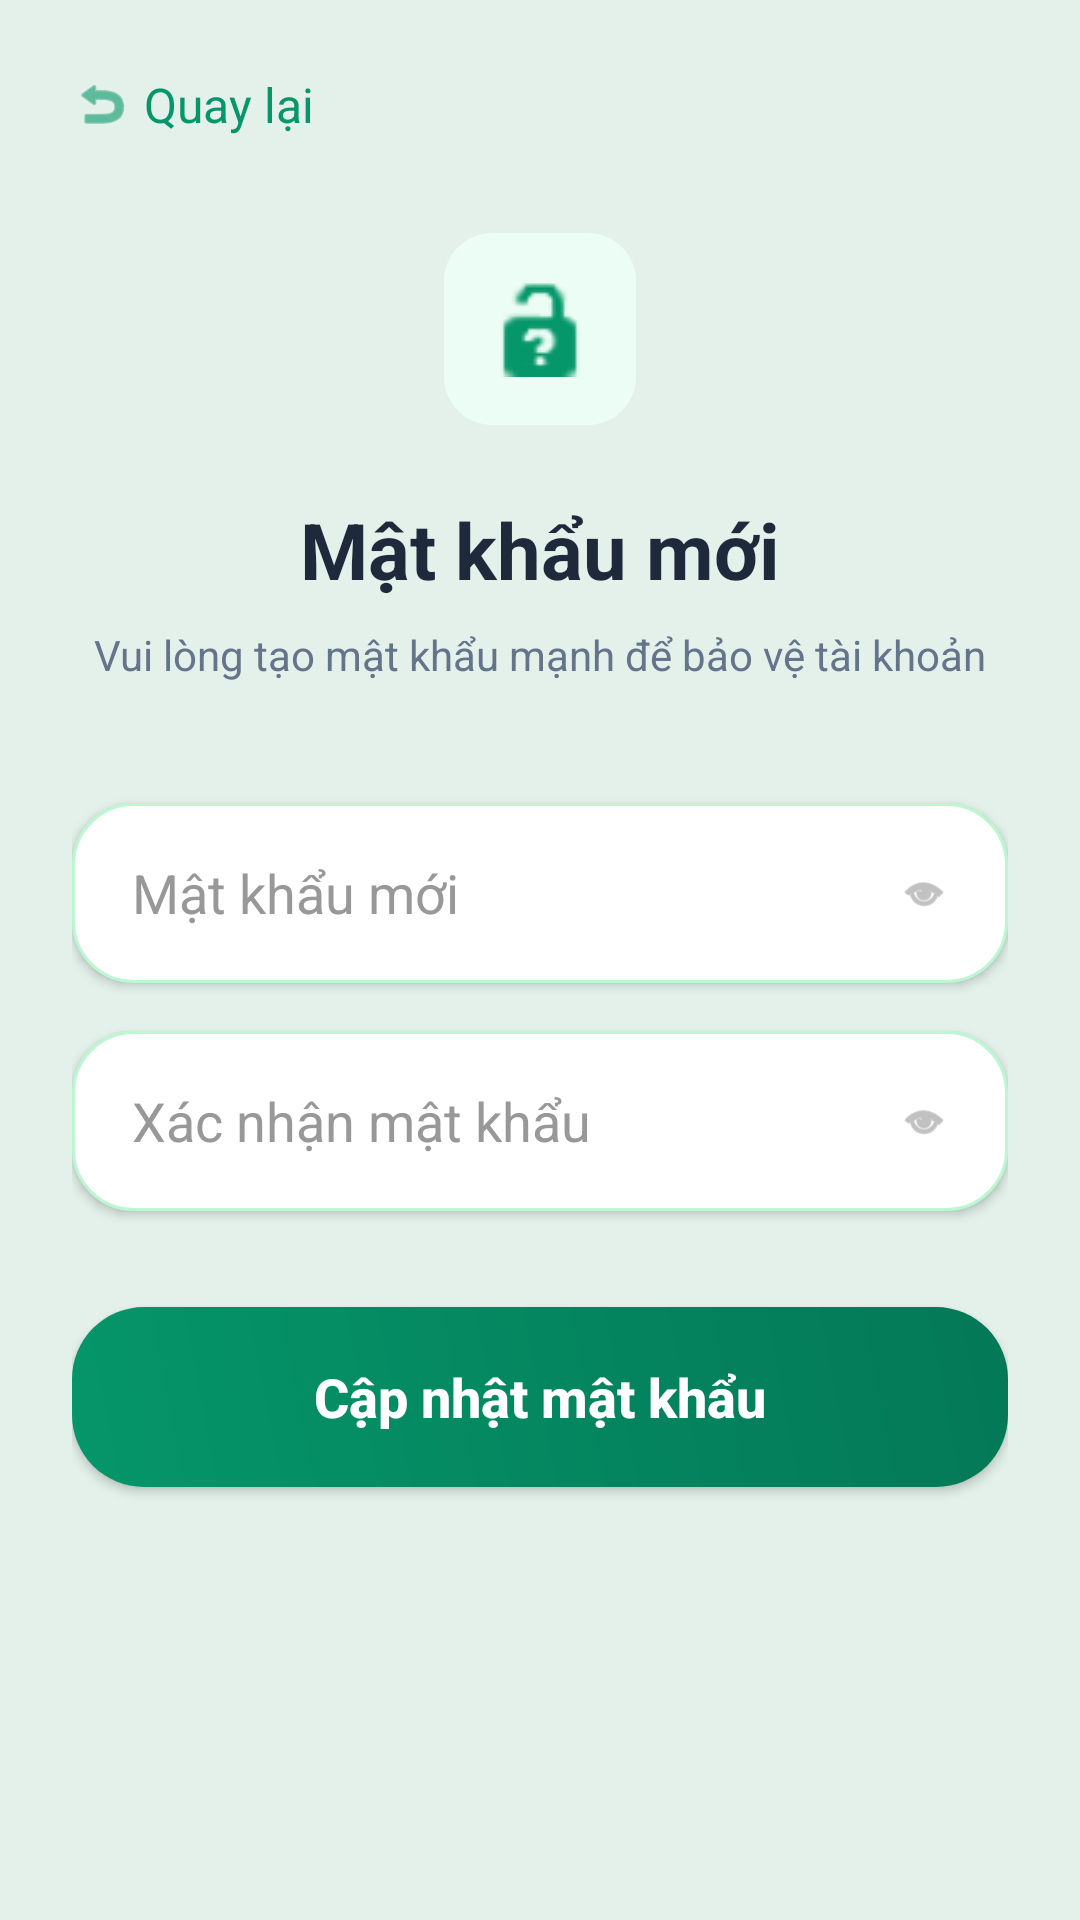

Icon bounding boxes for this 1080 x 1920 phone screenshot, format (left=x1, top=y1, right=x2, bottom=y2):
Hiện/ẩn mật khẩu: (left=905, top=882, right=943, bottom=906), (left=905, top=1110, right=943, bottom=1134)
partial secure: (left=503, top=283, right=577, bottom=377)
revert: (left=81, top=85, right=124, bottom=124)
